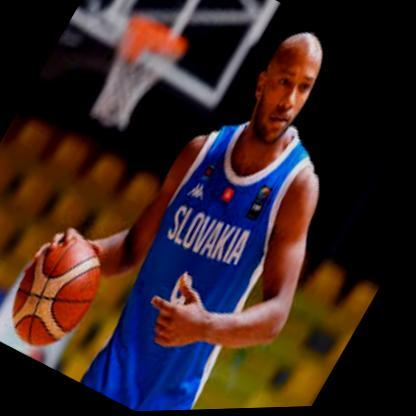basketball: (0, 226, 121, 361)
